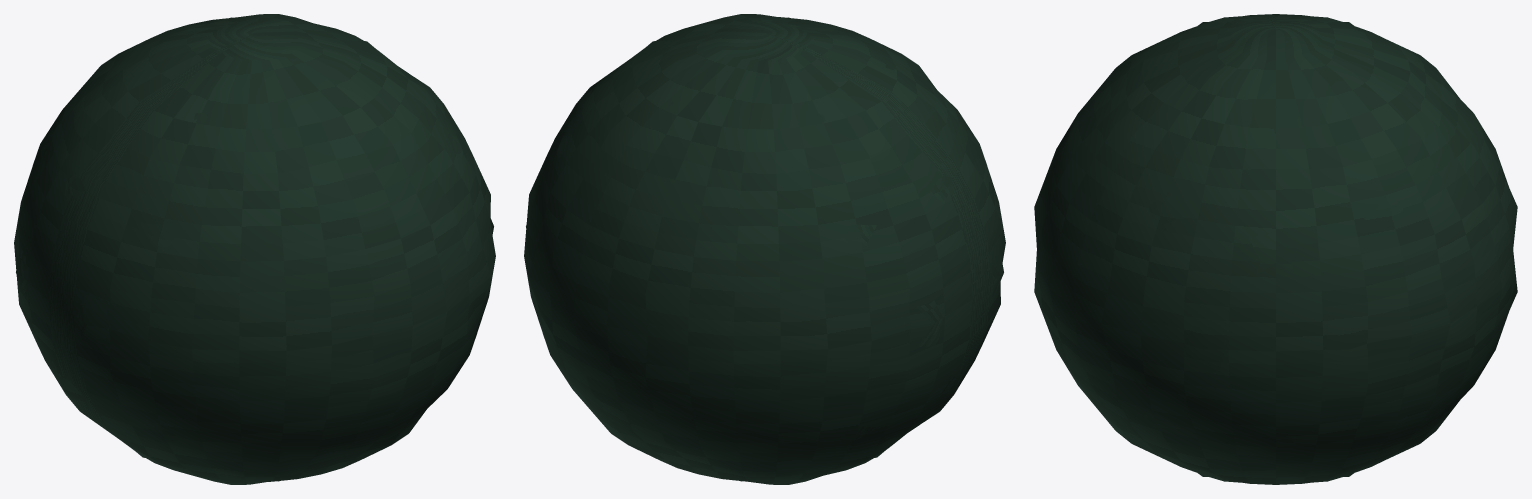
The model's file is AST_AsterPlanet.glb.
The picture shows the model from 3 angles, left to right: view 1: azimuth 30°, elevation 25°; view 2: azimuth 150°, elevation 25°; view 3: azimuth 270°, elevation 25°; orthographic projection.
Parts seen in each view (by area): view 1: VIS_AST_AsterPlanet_LOD0, COL_AST_AsterPlanet_Hull; view 2: VIS_AST_AsterPlanet_LOD0, COL_AST_AsterPlanet_Hull; view 3: VIS_AST_AsterPlanet_LOD0, COL_AST_AsterPlanet_Hull.
Boxes of the visible parts, x1=… form: VIS_AST_AsterPlanet_LOD0: x1=14, y1=14, x2=495, y2=484; COL_AST_AsterPlanet_Hull: x1=16, y1=17, x2=493, y2=481; VIS_AST_AsterPlanet_LOD0: x1=524, y1=14, x2=1005, y2=484; COL_AST_AsterPlanet_Hull: x1=526, y1=17, x2=1003, y2=481; VIS_AST_AsterPlanet_LOD0: x1=1034, y1=14, x2=1517, y2=484; COL_AST_AsterPlanet_Hull: x1=1144, y1=22, x2=1407, y2=476.
Size of what is drawn, in the model's own units: 20 by 20 by 20.
Materials: 1 (1 with a texture image).
